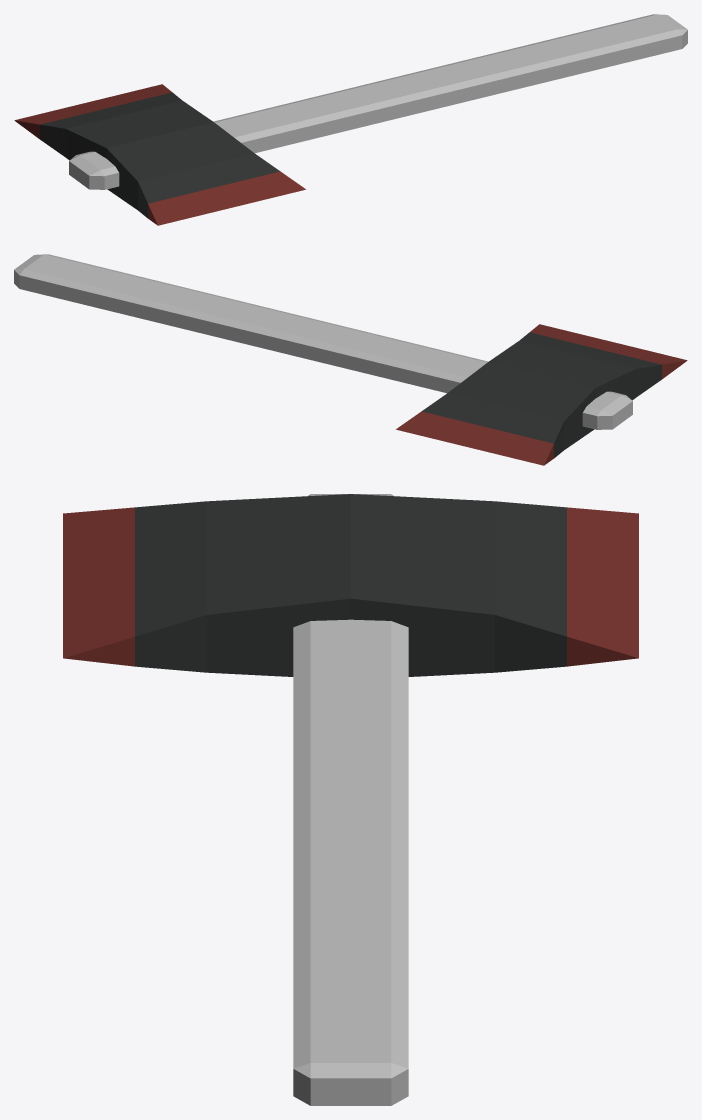
The model's file is Axe_2_White.fbx.
3 views of the same model, one above another, from view 1: azimuth 30°, elevation 25°; view 2: azimuth 150°, elevation 25°; view 3: azimuth 270°, elevation 25° (orthographic). The views are drawn at different scales.
Parts seen in each view (by area): view 1: Axe_2_White; view 2: Axe_2_White; view 3: Axe_2_White.
Part boxes in pixels (x1,y1,x2,y2): Axe_2_White: [14, 14, 687, 225]; Axe_2_White: [14, 254, 687, 465]; Axe_2_White: [63, 494, 638, 1105].
Size of the model in its own units: 96 by 6.23 by 40.
